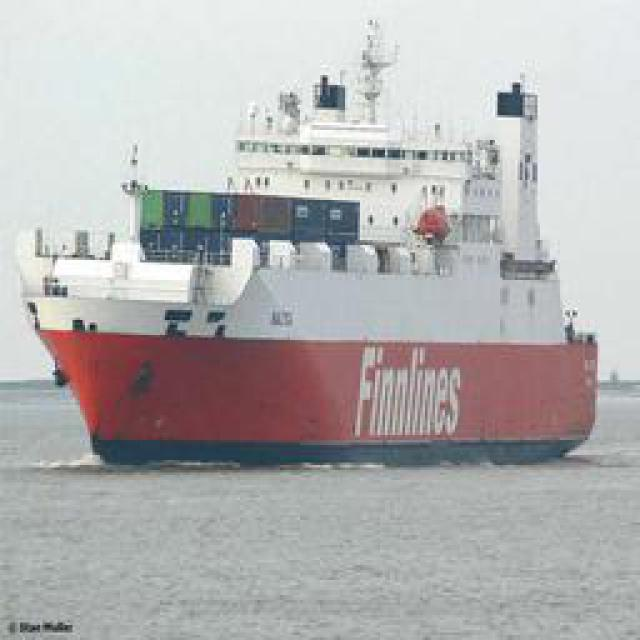Ship: (26, 87, 591, 460)
